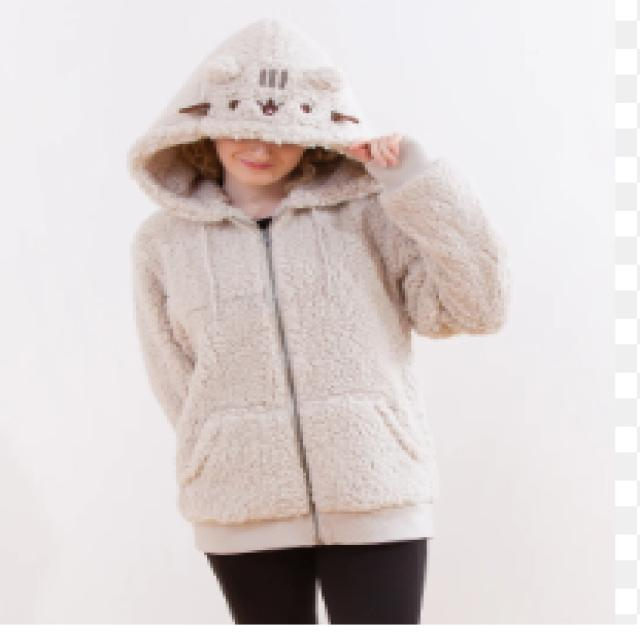4_capucha: (126, 14, 374, 222)
